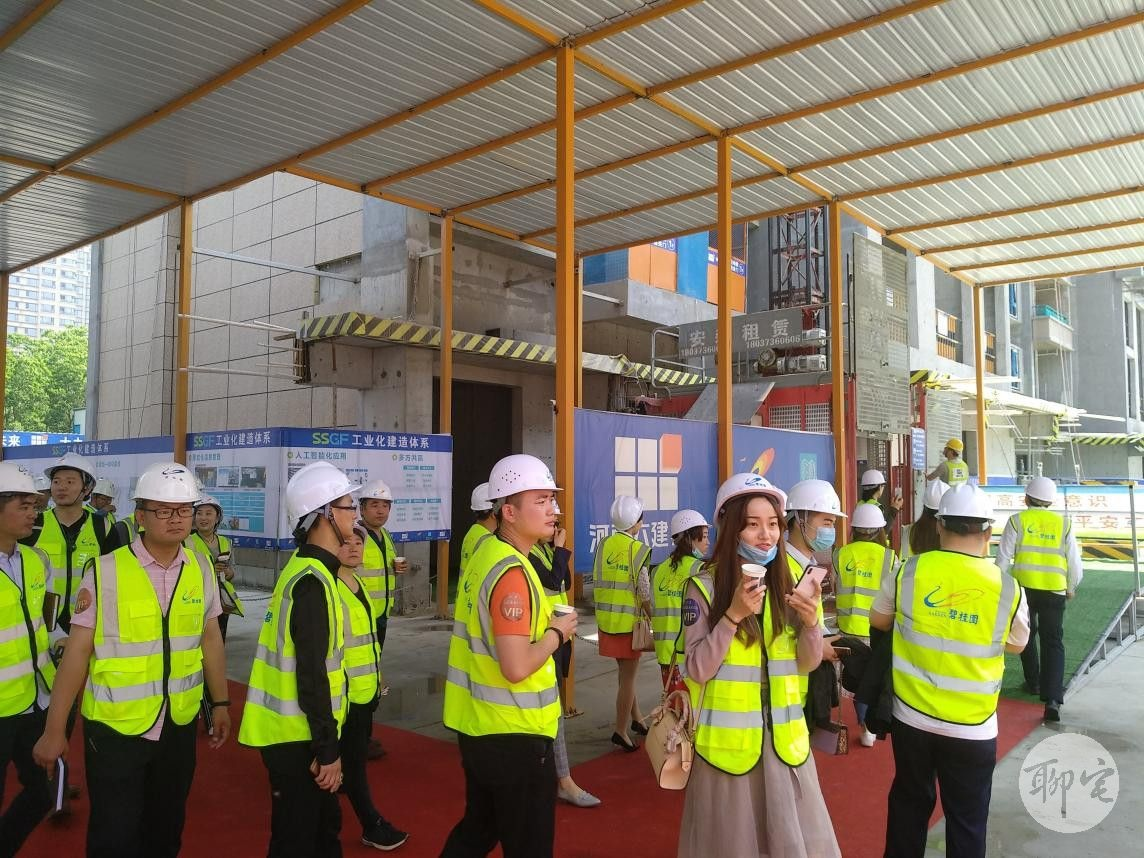white: (712, 470, 788, 563), (489, 449, 559, 542), (283, 458, 357, 538), (130, 459, 196, 546), (786, 476, 842, 550), (936, 484, 995, 553), (1, 461, 38, 545), (48, 449, 97, 509), (669, 505, 710, 556), (846, 499, 887, 546), (356, 477, 393, 527), (608, 490, 647, 537), (1021, 471, 1058, 511), (191, 493, 224, 531), (919, 476, 948, 513), (857, 465, 887, 498)
yellow: (939, 435, 965, 461)
